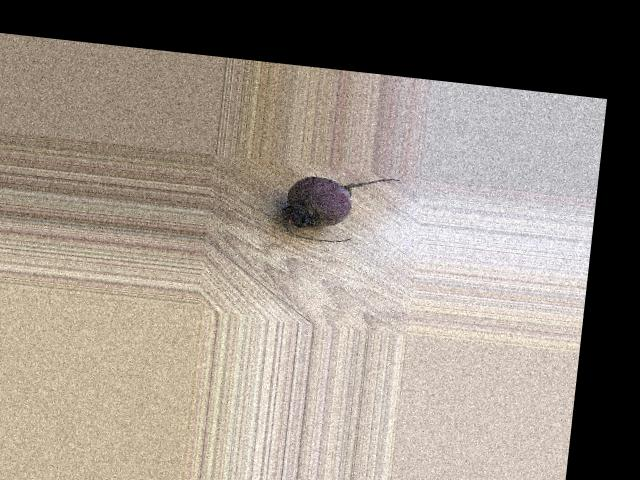beet: (280, 167, 400, 248)
